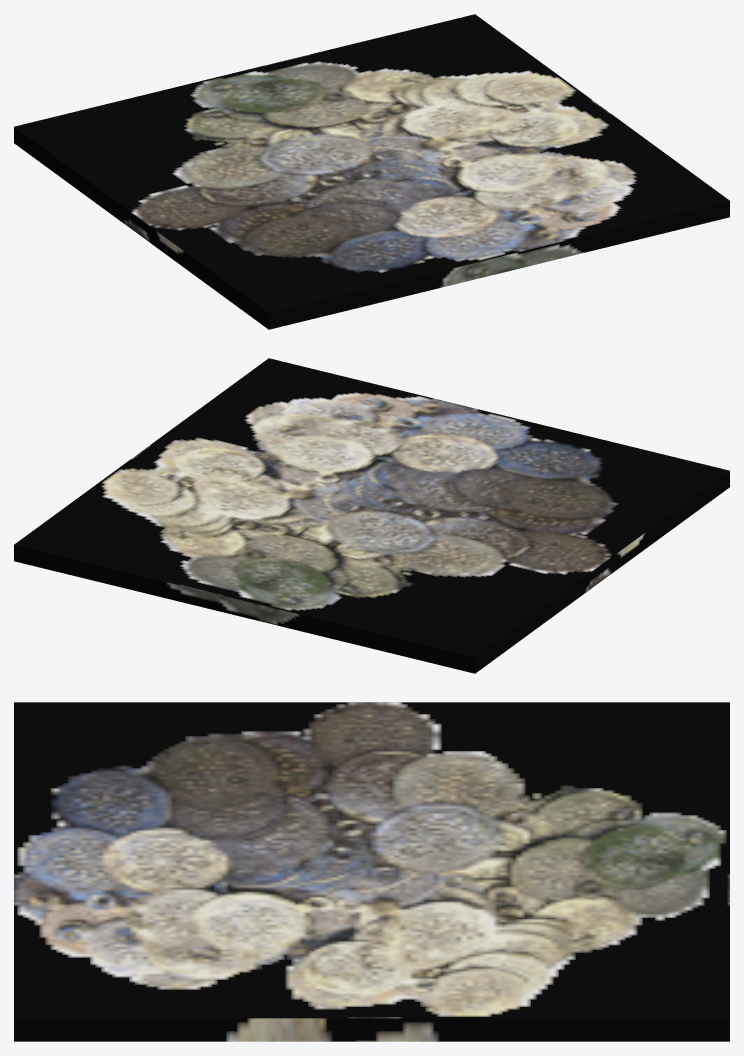
File: money.glb
3 renders of one model, top to bottom at view 1: azimuth 30°, elevation 25°; view 2: azimuth 150°, elevation 25°; view 3: azimuth 270°, elevation 25°, orthographic. The views are drawn at different scales.
Visible parts, largest first — view 1: money.ms3d.mo; view 2: money.ms3d.mo; view 3: money.ms3d.mo.
Part boxes in pixels (bbox=[...]): money.ms3d.mo: bbox=[14, 14, 729, 329]; money.ms3d.mo: bbox=[14, 358, 729, 673]; money.ms3d.mo: bbox=[14, 702, 729, 1041].
Bounding box in the file's own units: 25.21 × 0.8627 × 24.14.
Materials: 1 (1 with a texture image).
